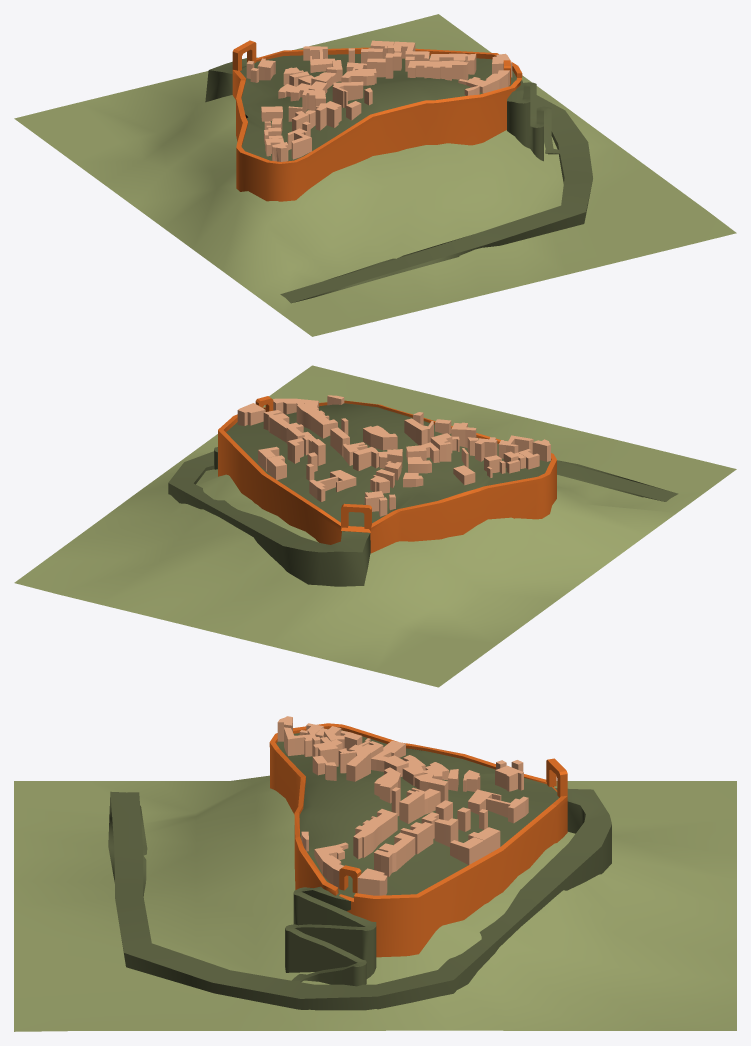
Rendered from ville_v12.fbx.
3 renders of one model, top to bottom at view 1: azimuth 30°, elevation 25°; view 2: azimuth 150°, elevation 25°; view 3: azimuth 270°, elevation 25°, orthographic. The views are drawn at different scales.
Visible parts, largest first — view 1: Ville; view 2: Ville; view 3: Ville.
Part boxes in pixels (left/top/right/bottom): Ville: left=14, top=14, right=736, bottom=336; Ville: left=14, top=365, right=736, bottom=687; Ville: left=14, top=716, right=736, bottom=1031.
Size of the model in its own units: 986 by 242 by 1200.
